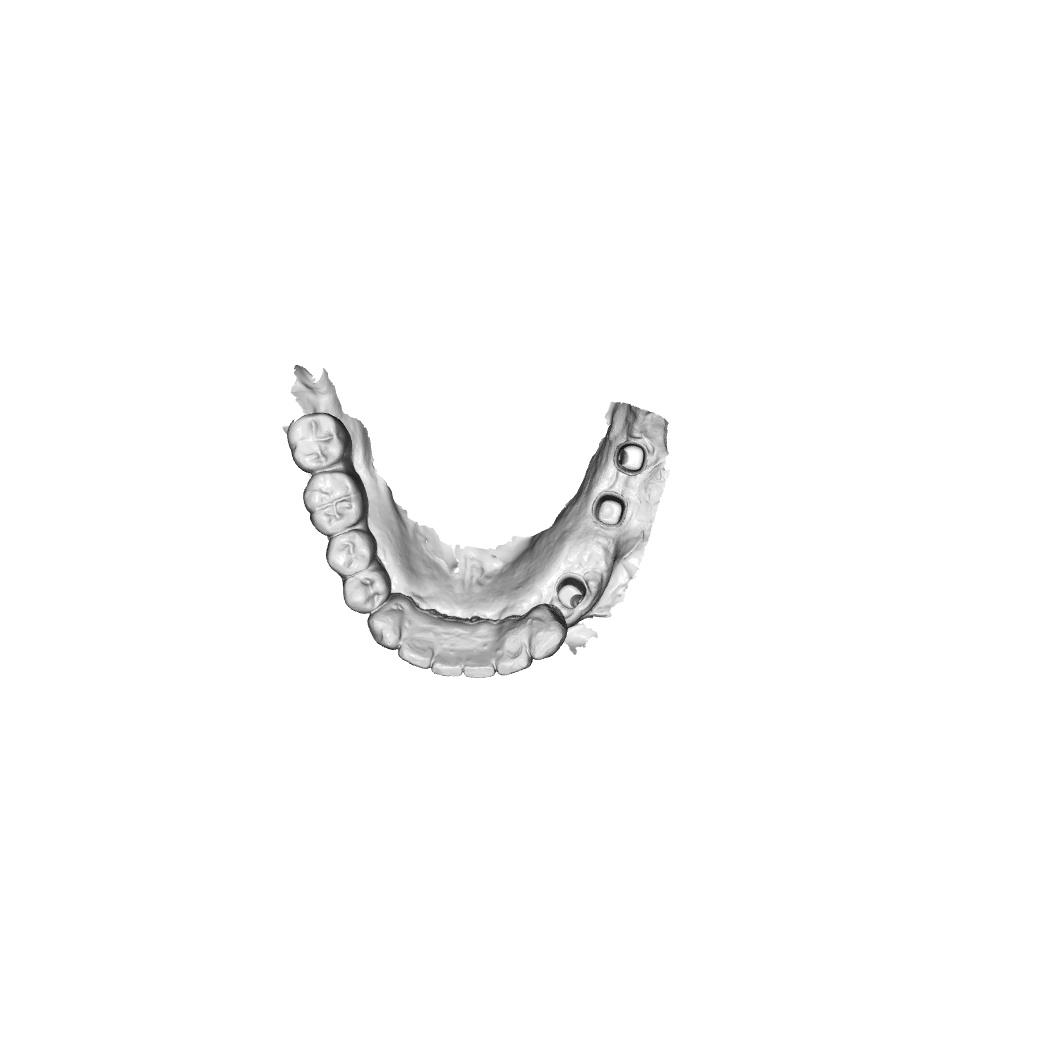abutment: (592, 491, 629, 528), (555, 574, 588, 611), (615, 442, 648, 474)
canine: (525, 603, 567, 661), (367, 603, 405, 651)
incisor: (494, 615, 533, 677), (461, 622, 497, 679), (430, 623, 465, 678), (397, 626, 434, 672)
molar: (302, 471, 369, 538), (286, 412, 353, 473)
premolar: (324, 529, 378, 578), (341, 566, 393, 615)
